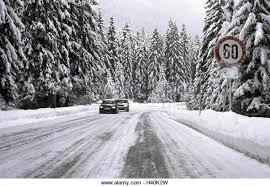Speed_limit_60km: (215, 36, 245, 66)
